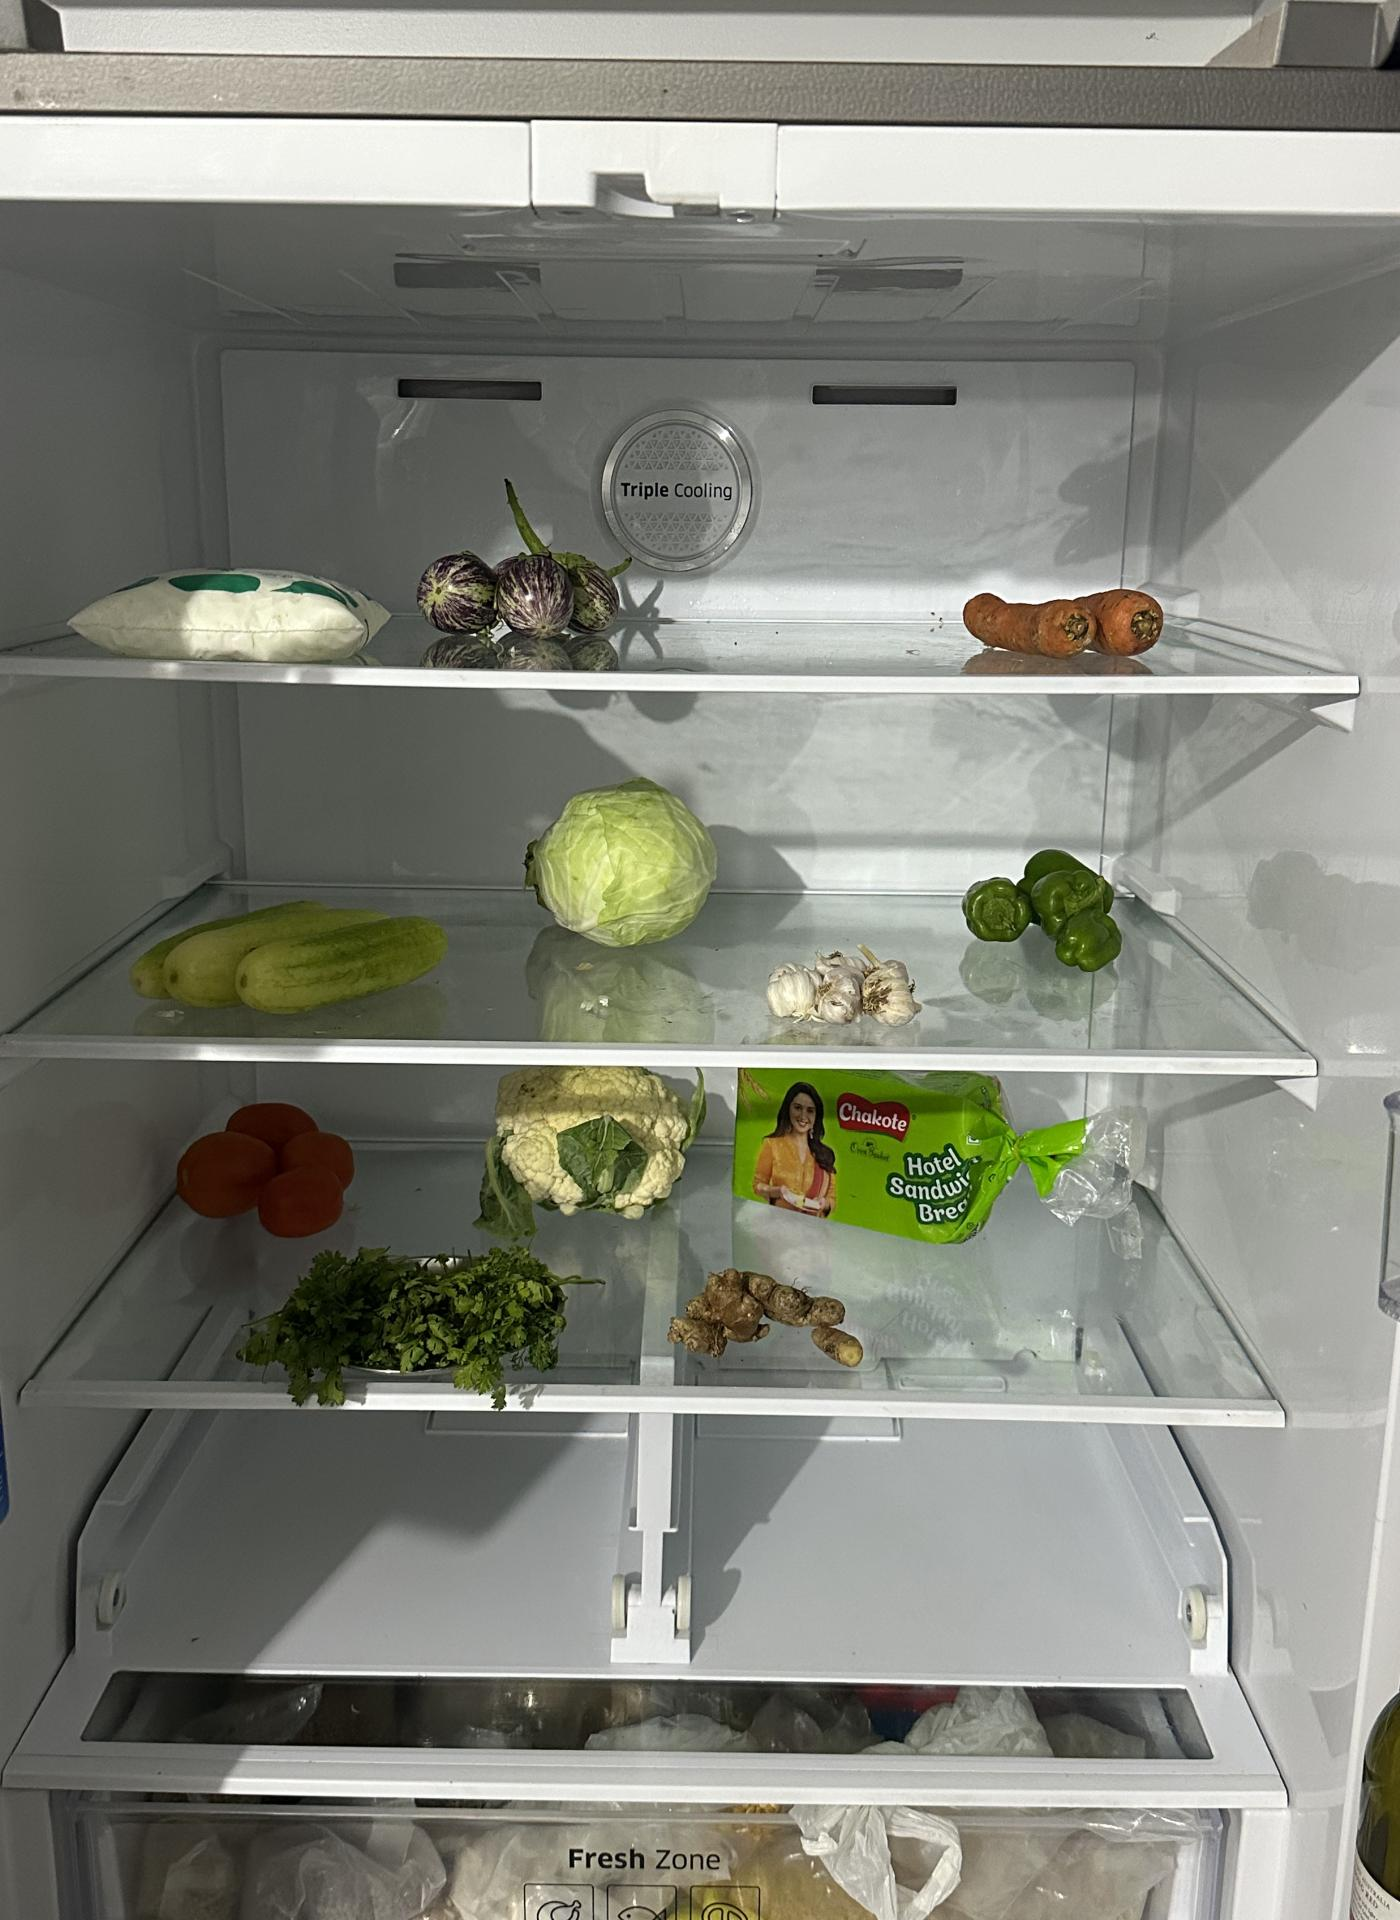bread: (728, 1064, 1015, 1237), (1355, 1664, 1400, 1920)
brinjal: (413, 516, 668, 656)
cabbage: (531, 781, 722, 947)
capsicum: (963, 847, 1123, 970)
carrots: (965, 580, 1173, 665)
cauliflower: (488, 1060, 704, 1213)
coriander: (242, 1242, 568, 1389)
cucumber: (131, 902, 450, 1011)
garlic: (765, 939, 920, 1029)
ginger: (669, 1263, 866, 1370)
milk: (81, 563, 388, 659)
tomato: (182, 1093, 361, 1228)
